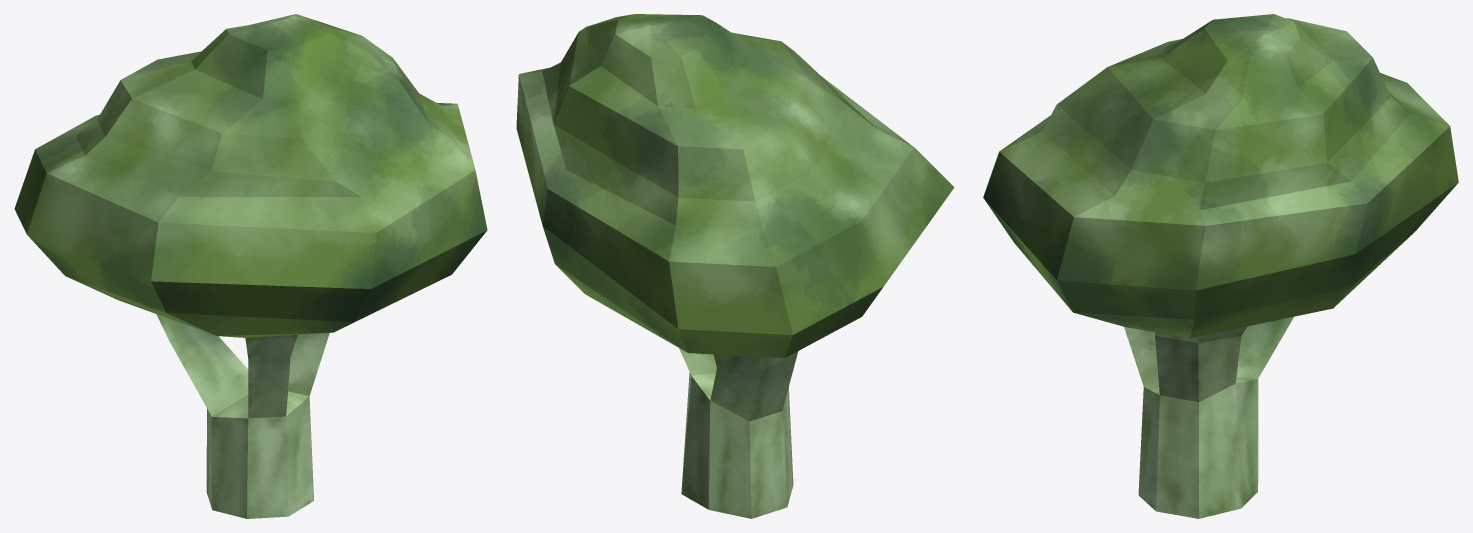
Rendered from Broccoli_Main.fbx.
3 views of the same model, side by side, from view 1: azimuth 30°, elevation 25°; view 2: azimuth 150°, elevation 25°; view 3: azimuth 270°, elevation 25° (orthographic). The views are drawn at different scales.
Parts seen in each view (by area): view 1: Brokuly_Low; view 2: Brokuly_Low; view 3: Brokuly_Low.
Boxes of the visible parts, x1,y1,x2,y2 form: Brokuly_Low: (14,14,487,518); Brokuly_Low: (516,14,954,518); Brokuly_Low: (983,14,1458,518).
Size of the model in its own units: 47.74 by 51.78 by 45.54.
Materials: 1 (1 with a texture image).
